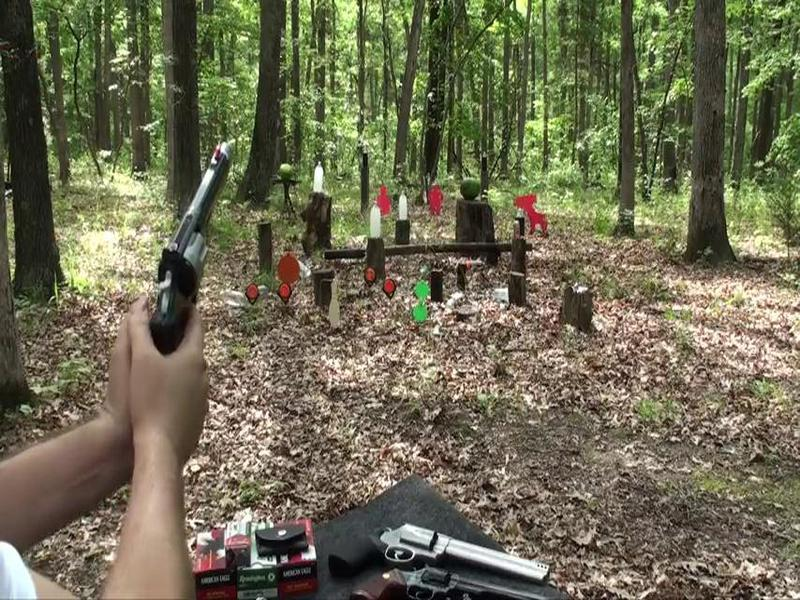Revolver: (125, 128, 234, 381)
